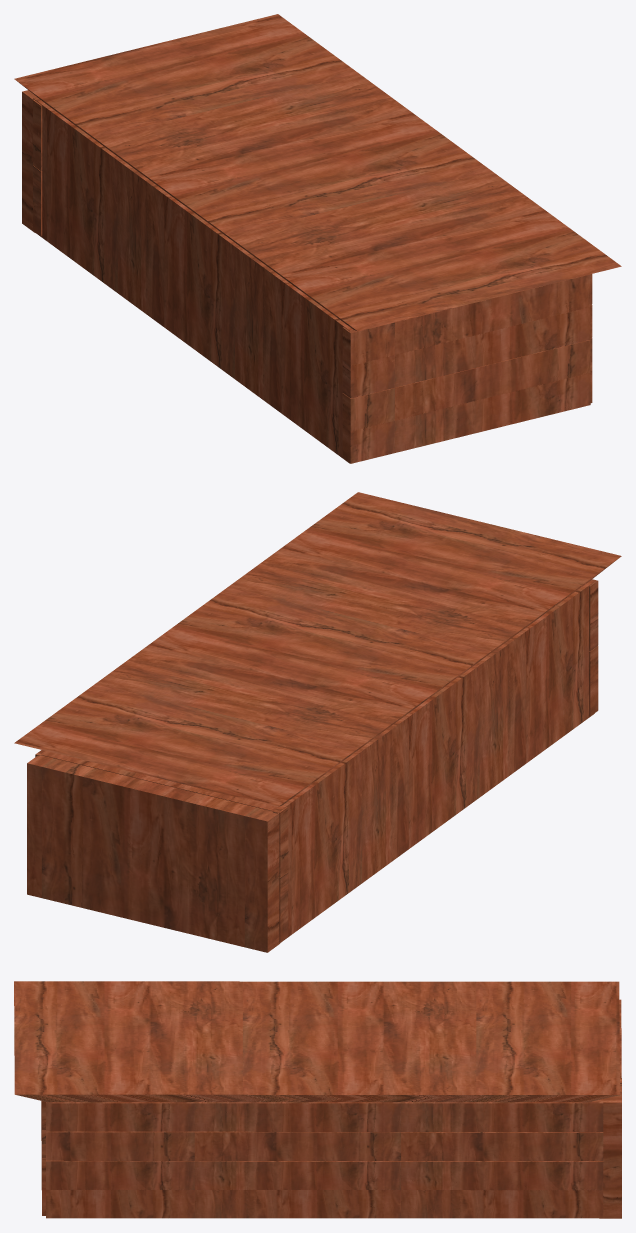
The model's file is mesaCocina.fbx.
The picture shows the model from 3 angles, top to bottom: view 1: azimuth 30°, elevation 25°; view 2: azimuth 150°, elevation 25°; view 3: azimuth 270°, elevation 25°; orthographic projection. The views are drawn at different scales.
Visible parts, largest first — view 1: mesaCocina; view 2: mesaCocina; view 3: mesaCocina.
Part boxes in pixels (x1,y1,x2,y2): mesaCocina: (14,14,621,463); mesaCocina: (14,492,621,952); mesaCocina: (14,981,621,1218).
Bounding box in the file's own units: 3.01 × 1.6 × 6.81.
Materials: 1 (1 with a texture image).
